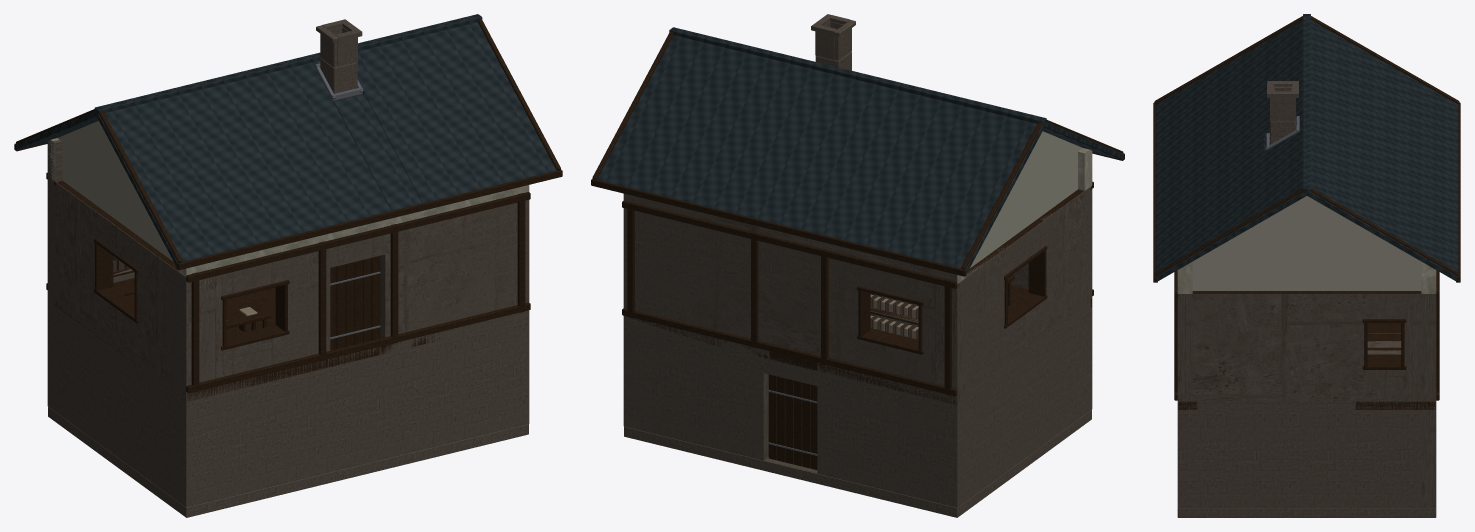
The model's file is s_library.glb.
3 views of the same model, side by side, from view 1: azimuth 30°, elevation 25°; view 2: azimuth 150°, elevation 25°; view 3: azimuth 270°, elevation 25° (orthographic). The views are drawn at different scales.
Visible parts, largest first — view 1: lower foundation, slate roof, upper west slab, front-colonly.006, closed attic wall, west-colonly.004, west-colonly.001, front-colonly.001, front-colonly.004, front-colonly.002, west-colonly.002, front-colonly.003 (+8 smaller); view 2: lower foundation, slate roof, upper west slab, back-colonly.006, closed attic wall, west-colonly.001, back-colonly.003, west-colonly.004, back-colonly.002, closed attic wall-colonly.001, back-colonly.004, back-colonly.005 (+9 smaller); view 3: slate roof, lower foundation, east-colonly.001, closed attic wall, upper west slab, east-colonly.004, back-colonly.006, front-colonly.006, back-colonly.002, east-colonly.002, east-colonly.003, open chimney wall-colonly.001 (+1 smaller).
Boxes of the visible parts, box(x1,y1,x2,y2) form: lower foundation: box(47, 19, 529, 517); slate roof: box(15, 14, 556, 266); upper west slab: box(14, 19, 562, 401); front-colonly.006: box(380, 205, 528, 338); closed attic wall: box(47, 121, 529, 277); west-colonly.004: box(55, 182, 97, 326); west-colonly.001: box(137, 241, 178, 383); front-colonly.001: box(185, 274, 223, 392); front-colonly.004: box(285, 248, 330, 359); front-colonly.002: box(224, 335, 285, 376); west-colonly.002: box(97, 295, 136, 356); front-colonly.003: box(224, 260, 285, 295); lower foundation: box(623, 14, 1092, 517); slate roof: box(592, 27, 1123, 273); upper west slab: box(591, 31, 1124, 404); back-colonly.006: box(635, 215, 860, 365); closed attic wall: box(792, 131, 1092, 283); west-colonly.001: box(1040, 191, 1084, 331); back-colonly.003: box(920, 279, 965, 395); west-colonly.004: box(965, 248, 1005, 387); back-colonly.002: box(623, 321, 768, 460); closed attic wall-colonly.001: box(623, 193, 957, 281); back-colonly.004: box(860, 340, 920, 379); back-colonly.005: box(860, 266, 920, 300); slate roof: box(1155, 14, 1458, 281); lower foundation: box(1177, 81, 1436, 517); east-colonly.001: box(1192, 292, 1365, 400); closed attic wall: box(1177, 125, 1436, 293); upper west slab: box(1153, 16, 1460, 409); east-colonly.004: box(1403, 294, 1421, 400); back-colonly.006: box(1421, 294, 1436, 400); front-colonly.006: box(1177, 294, 1192, 400); back-colonly.002: box(1421, 401, 1436, 508); east-colonly.002: box(1366, 370, 1402, 400); east-colonly.003: box(1366, 294, 1402, 318); open chimney wall-colonly.001: box(1270, 98, 1295, 121).
Size of what is drawn, in the model's own units: 11.2 by 11.06 by 8.32.
7 materials, 4 textured.
